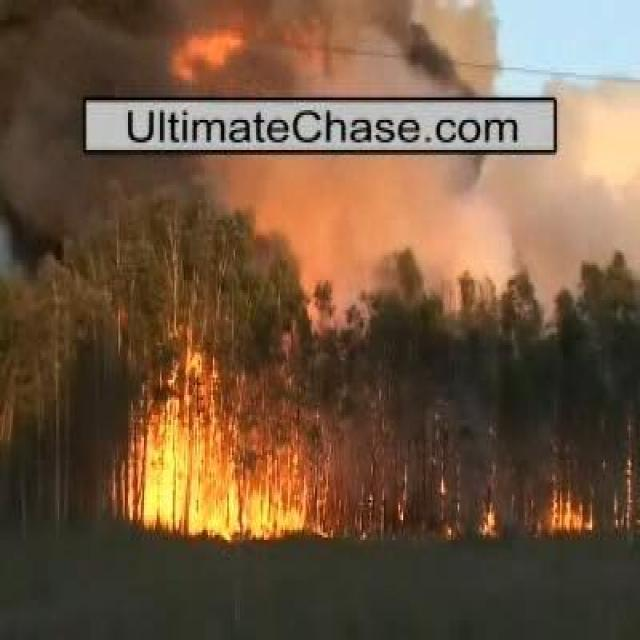fire: (154, 415, 290, 532)
smoke: (84, 8, 505, 95), (255, 153, 592, 250)
